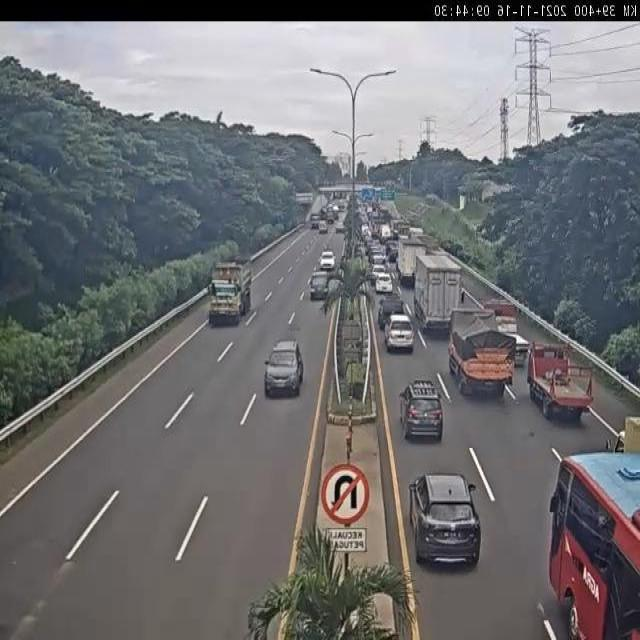Bus: (544, 445, 640, 640)
Car: (408, 471, 481, 566), (399, 378, 444, 442), (264, 339, 304, 397), (384, 314, 415, 353), (374, 272, 394, 295), (320, 250, 336, 270), (371, 264, 387, 280), (388, 248, 399, 264), (335, 218, 345, 234), (386, 241, 397, 254)
Truck: (444, 304, 516, 404), (526, 339, 597, 422), (412, 252, 466, 335), (205, 258, 252, 328), (482, 299, 530, 366), (397, 237, 429, 288), (381, 223, 392, 244), (310, 212, 322, 229)
Van: (308, 270, 330, 301)
